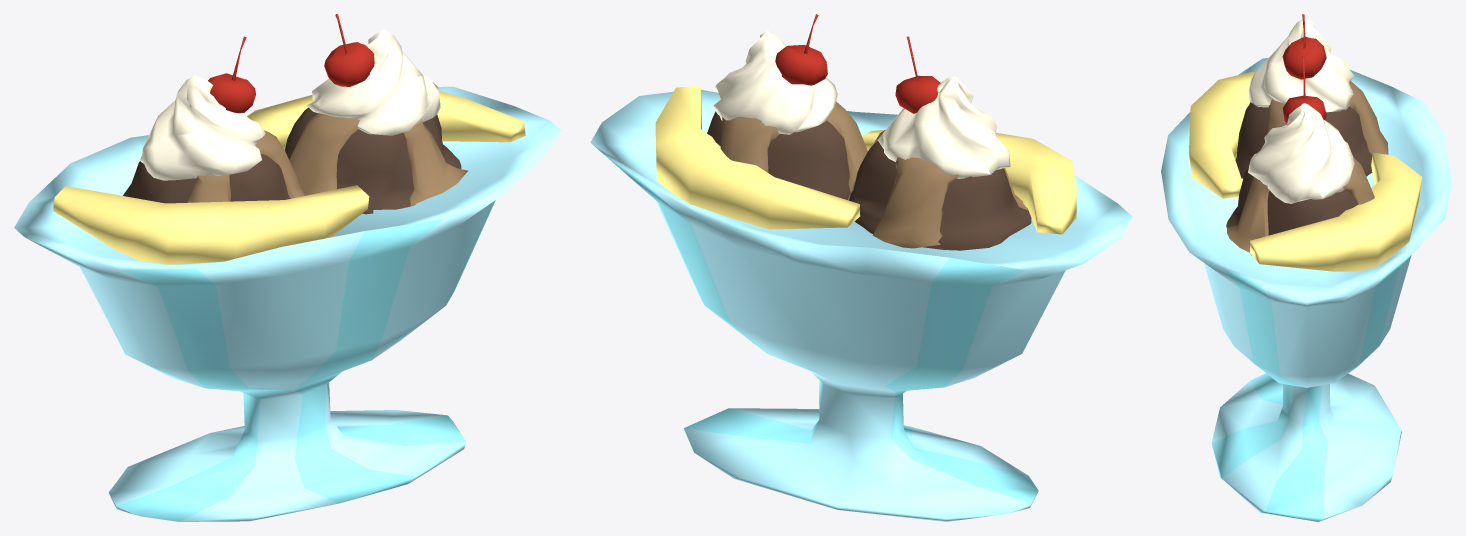
The model's file is BananaSplit.glb.
3 renders of one model, left to right at view 1: azimuth 30°, elevation 25°; view 2: azimuth 150°, elevation 25°; view 3: azimuth 270°, elevation 25°, orthographic. The views are drawn at different scales.
Parts seen in each view (by area): view 1: BananaSplit; view 2: BananaSplit; view 3: BananaSplit.
Part boxes in pixels (x1,y1,x2,y2): BananaSplit: [14, 14, 561, 521]; BananaSplit: [590, 14, 1132, 521]; BananaSplit: [1161, 14, 1451, 521].
Bounding box in the file's own units: 0.3296 × 0.2661 × 0.171.
1 material, 1 textured.
